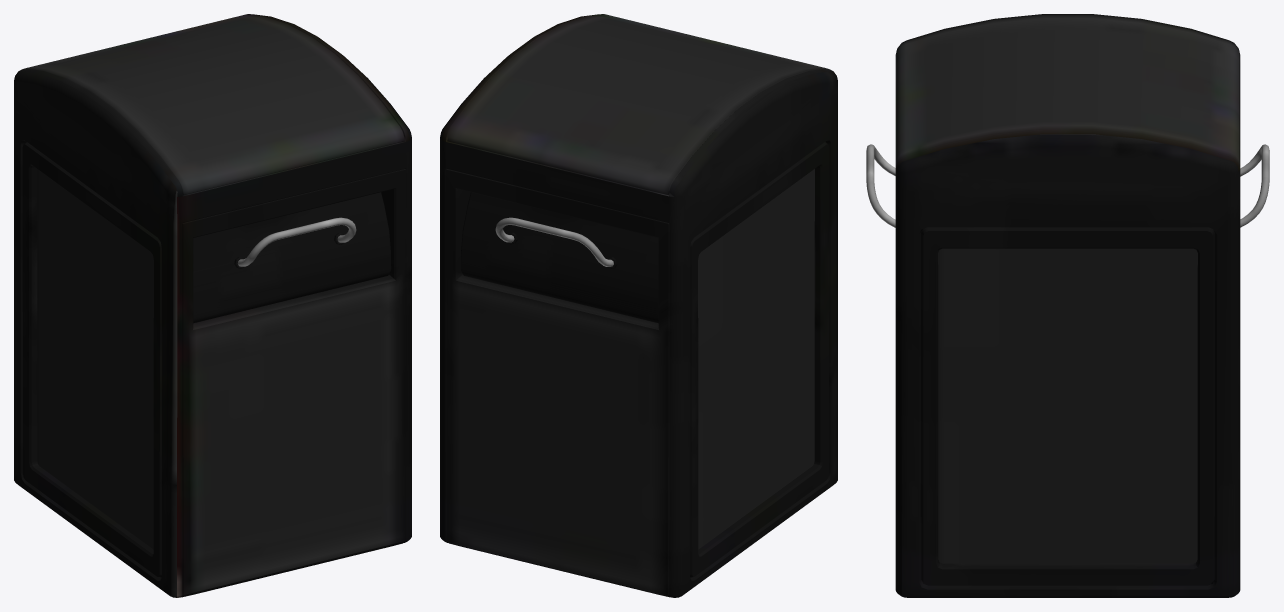
The model's file is city_trashcan.glb.
3 views of the same model, side by side, from view 1: azimuth 30°, elevation 25°; view 2: azimuth 150°, elevation 25°; view 3: azimuth 270°, elevation 25° (orthographic). The views are drawn at different scales.
Parts seen in each view (by area): view 1: body; view 2: body; view 3: body.
Boxes of the visible parts, <box> form: body: <box>14,14,411,597</box>; body: <box>440,14,837,597</box>; body: <box>866,14,1269,597</box>.
Size of the model in its own units: 0.5855 by 1.01 by 0.7956.
Materials: 1 (1 with a texture image).
